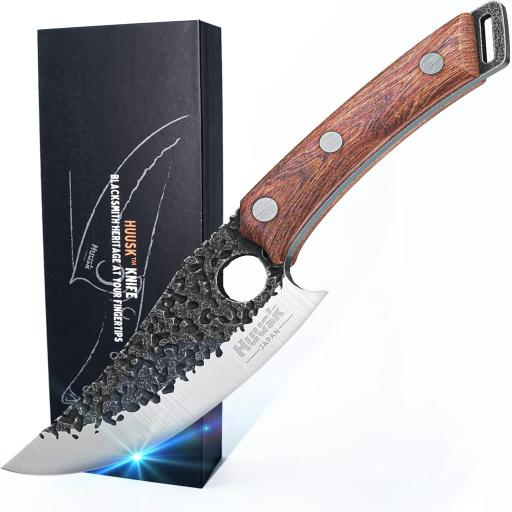knife: (6, 28, 491, 493)
